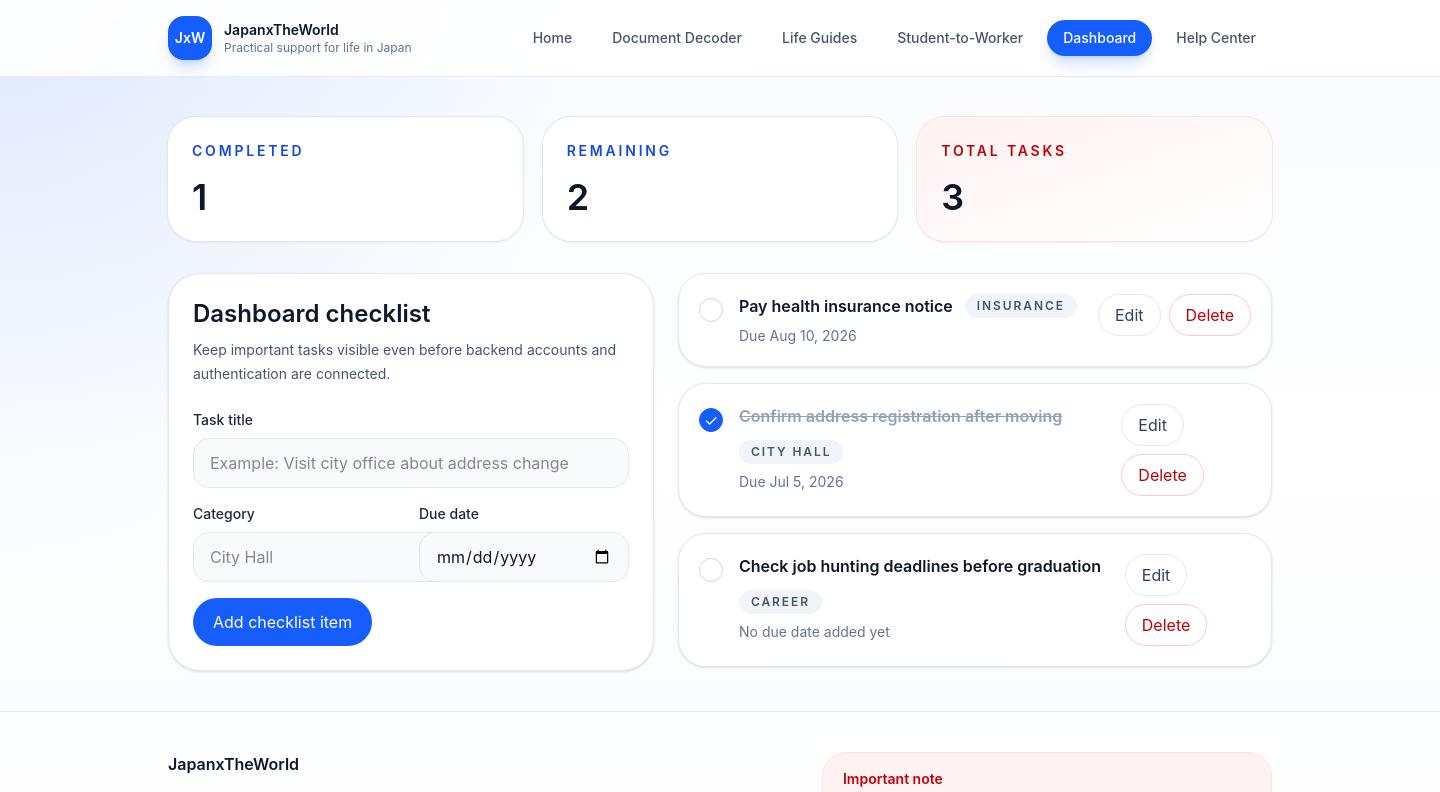
JapanxTheWorld app › renders dashboard checklist and can toggle an item
Expected: the heading "Pay health insurance notice" is shown, left=739, top=294, right=953, bottom=318
Expected: the text "Pay health insurance notice" is shown, left=739, top=296, right=953, bottom=316
Click the button named "Mark task complete".
click(711, 310)  # box left=699, top=298, right=723, bottom=322
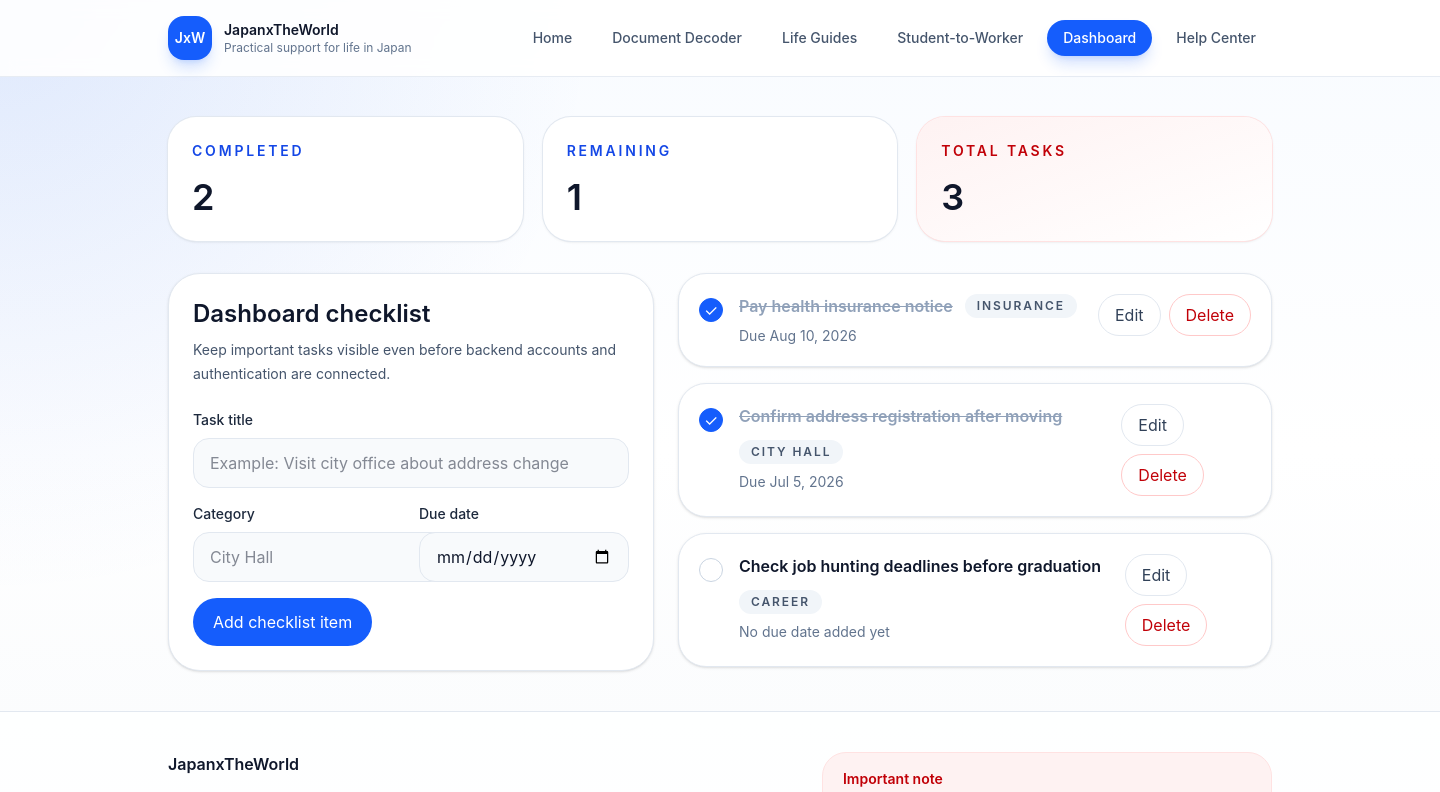
Now the button named "Mark task incomplete" is shown, box left=699, top=298, right=723, bottom=322
